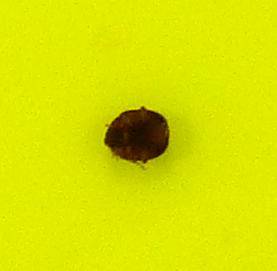Coleoptera: (100, 100, 177, 171)
